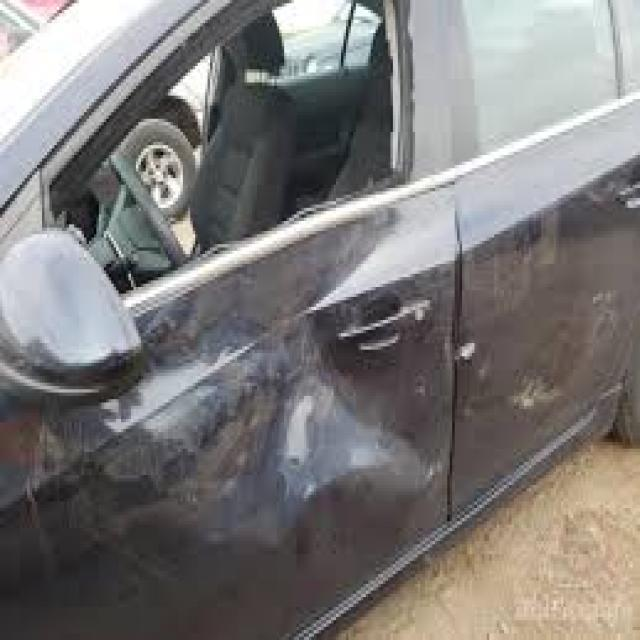damaged-door: (0, 0, 449, 631)
